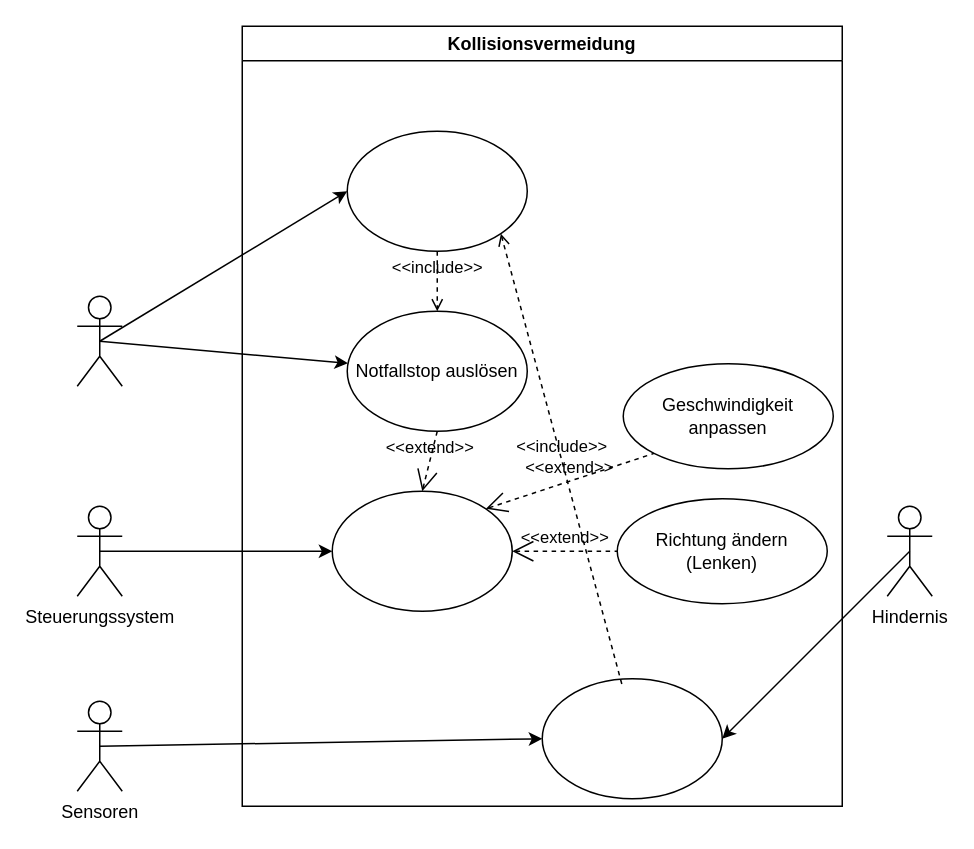
The diagram is 974 pixels wide and 849 high, and some of its shapes have lost their labels. Here are the shapes that lost their labels. From the top down, the centre of each, then its label:
pixel 436 190: Kollisionsgefahr bewerten
pixel 99 340: Auto
pixel 421 550: Kollisionsvermeidung steuern
pixel 631 738: Hindernisse erkennen
